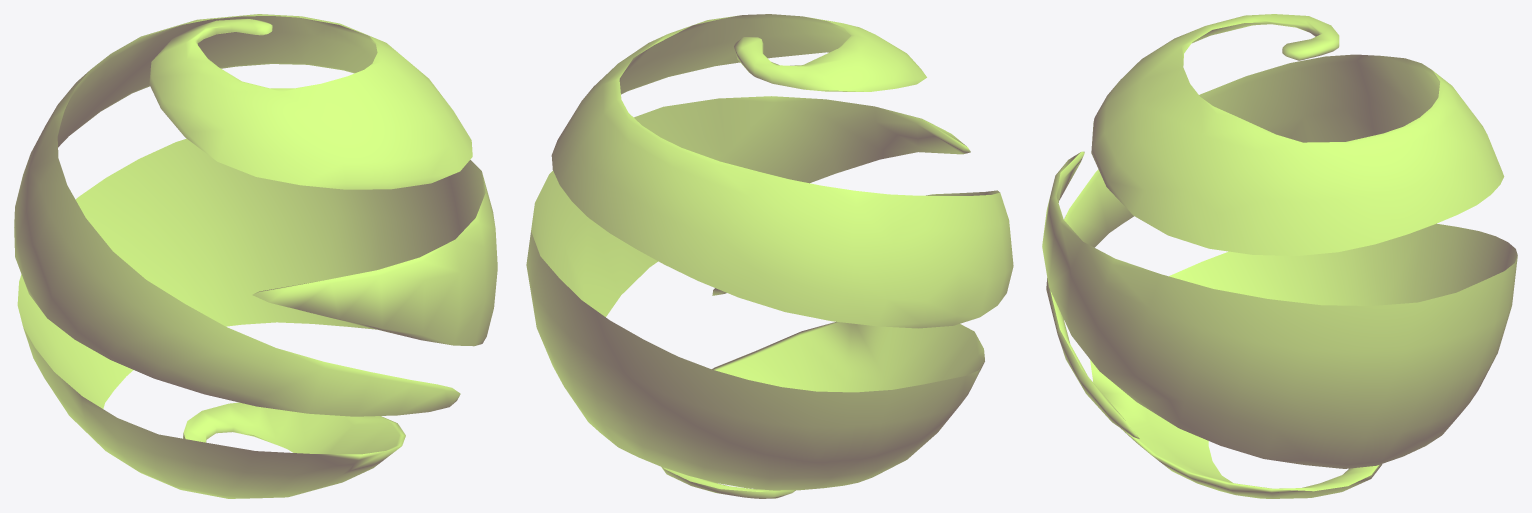
The model's file is Planet_Acc_Stratus.fbx.
The picture shows the model from 3 angles, left to right: view 1: azimuth 30°, elevation 25°; view 2: azimuth 150°, elevation 25°; view 3: azimuth 270°, elevation 25°; orthographic projection. The views are drawn at different scales.
Visible parts, largest first — view 1: StratusNew; view 2: StratusNew; view 3: StratusNew.
Part boxes in pixels (x1,y1,x2,y2): StratusNew: (14, 14, 497, 498); StratusNew: (526, 14, 1013, 498); StratusNew: (1042, 14, 1517, 498).
Bounding box in the file's own units: 2.03 × 2.03 × 2.03.
